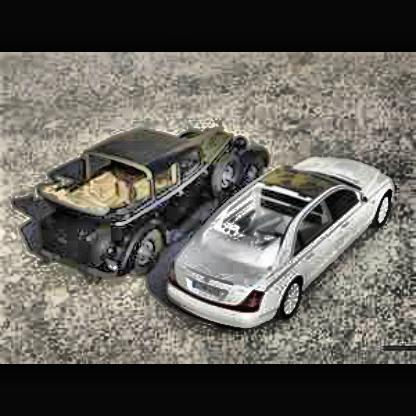Maybach Landaulet Convertible 2012: (165, 157, 397, 333)
